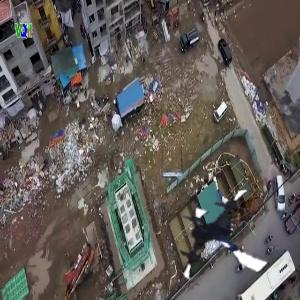drone: (170, 181, 287, 298)
